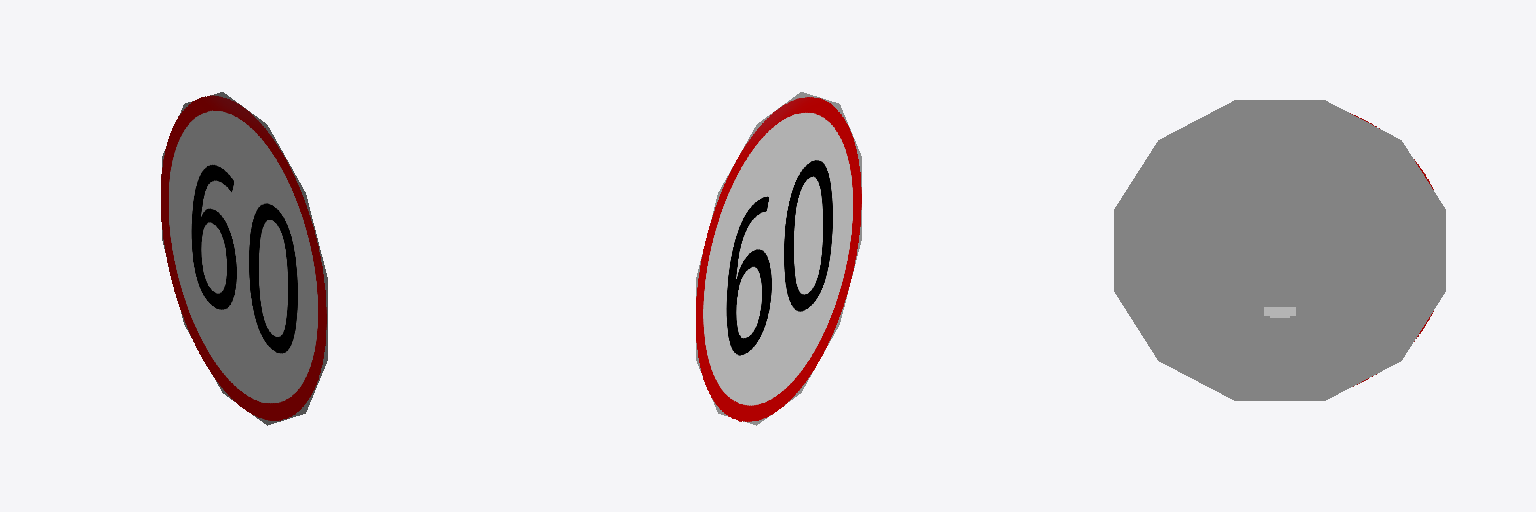
3 views of the same model, side by side, from view 1: azimuth 30°, elevation 25°; view 2: azimuth 150°, elevation 25°; view 3: azimuth 270°, elevation 25° (orthographic).
Parts seen in each view (by area): view 1: cube, circle; view 2: cube, circle; view 3: circle, cube.
Part boxes in pixels (x1,y1,x2,y2): cube: (161,95,326,420); circle: (162,92,327,425); cube: (696,97,861,421); circle: (696,92,861,425); circle: (1114,100,1445,400); cube: (1264,113,1433,386).
Bounding box in the file's own units: 0.0797 × 1 × 1.
2 materials, 1 textured.